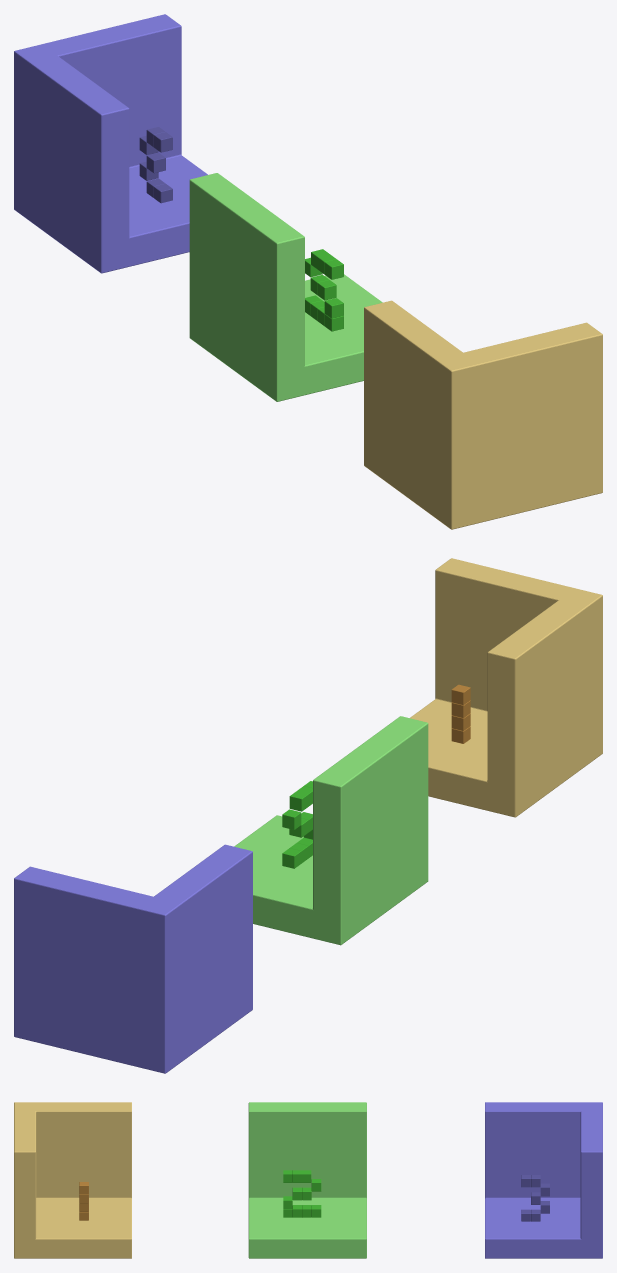
The model's file is prototype4.gltf.
The picture shows the model from 3 angles, top to bottom: view 1: azimuth 30°, elevation 25°; view 2: azimuth 150°, elevation 25°; view 3: azimuth 270°, elevation 25°; orthographic projection. The views are drawn at different scales.
Visible parts, largest first — view 1: Cube One, Cube Three, Cube Two.001; view 2: Cube Three, Cube One, Cube Two.001; view 3: Cube Two.001, Cube One, Cube Three.
Part boxes in pixels (x1,y1,x2,y2): Cube One: (364,300,602,529); Cube Three: (14,14,207,273); Cube Two.001: (189,173,382,401); Cube Three: (14,844,252,1073); Cube One: (410,558,602,817); Cube Two.001: (234,716,428,945); Cube Two.001: (248,1102,366,1258); Cube One: (14,1102,131,1258); Cube Three: (485,1102,602,1258).
Bounding box in the file's own units: 2 × 2 × 9.98.
